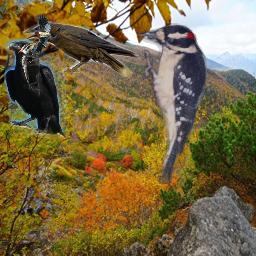Crow: (22, 20, 140, 77), (4, 39, 66, 138)
Woodpecker: (138, 21, 210, 184), (18, 41, 40, 98), (32, 14, 57, 54)
